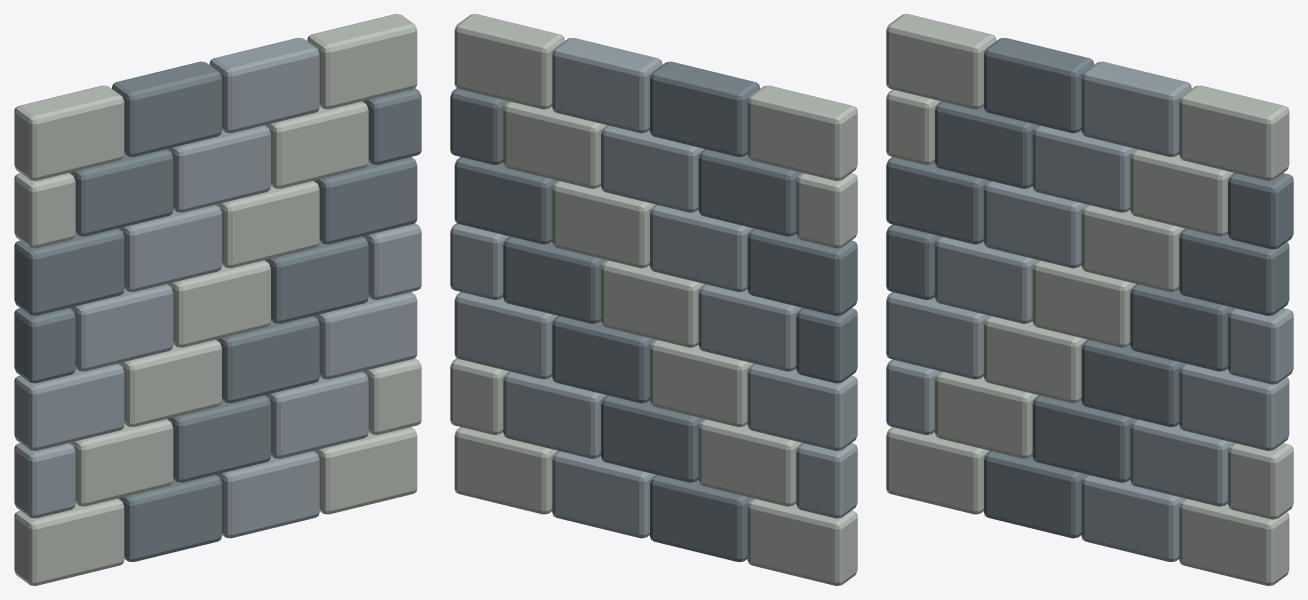
Rendered from wall_stone_2m.glb.
3 views of the same model, side by side, from view 1: azimuth 30°, elevation 25°; view 2: azimuth 150°, elevation 25°; view 3: azimuth 330°, elevation 25° (orthographic).
Visible parts, largest first — view 1: wall_stone_2m; view 2: wall_stone_2m; view 3: wall_stone_2m.
Part boxes in pixels (left/top/right/bottom): wall_stone_2m: left=14, top=14, right=421, bottom=585; wall_stone_2m: left=450, top=14, right=857, bottom=585; wall_stone_2m: left=886, top=14, right=1293, bottom=585.
Bounding box in the file's own units: 1.81 × 2.07 × 0.16.
